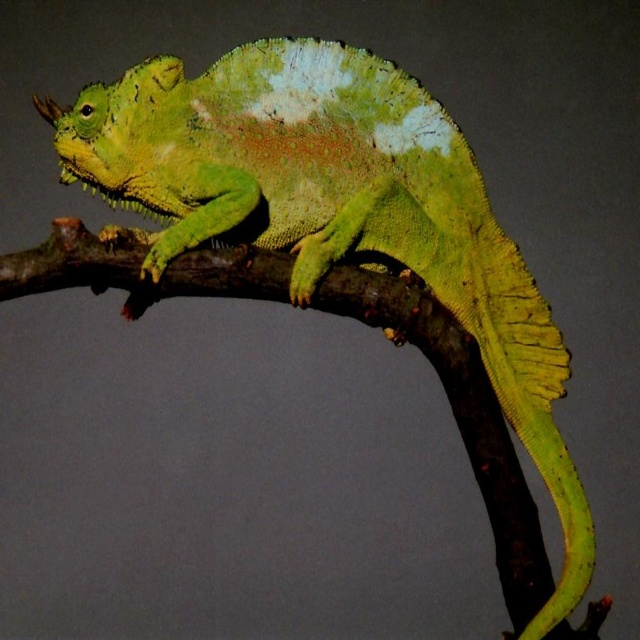Lizard: (53, 37, 596, 640)
